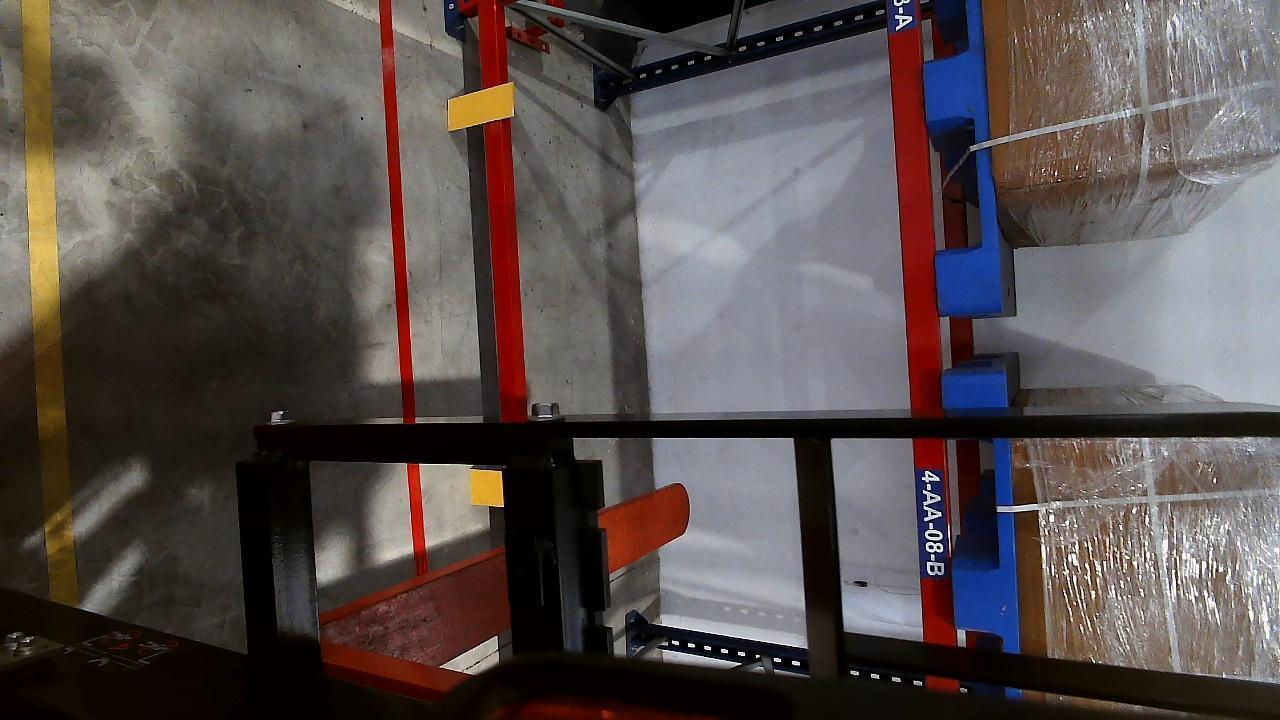red_line: (378, 0, 425, 555)
yellow_line: (17, 0, 75, 609)
